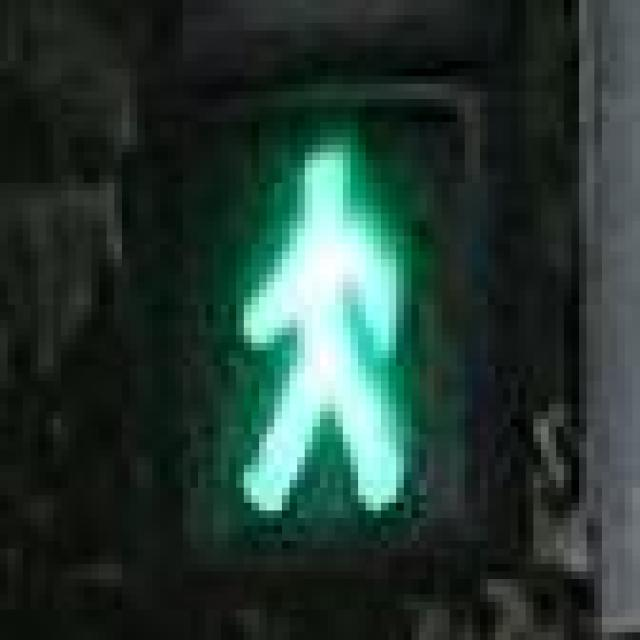green_light: (168, 99, 464, 526)
